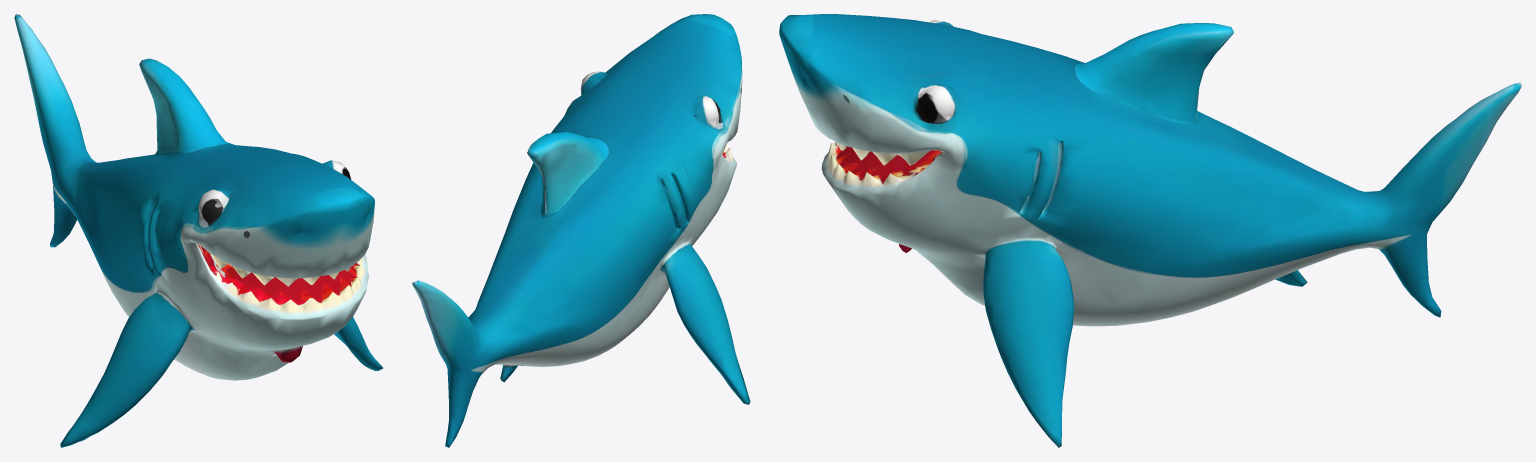
Rendered from fish_long.glb.
3 views of the same model, side by side, from view 1: azimuth 30°, elevation 25°; view 2: azimuth 150°, elevation 25°; view 3: azimuth 270°, elevation 25° (orthographic). The views are drawn at different scales.
Bounding box in the file's own units: 1.08 × 0.9575 × 1.91.
1 material, 1 textured.
